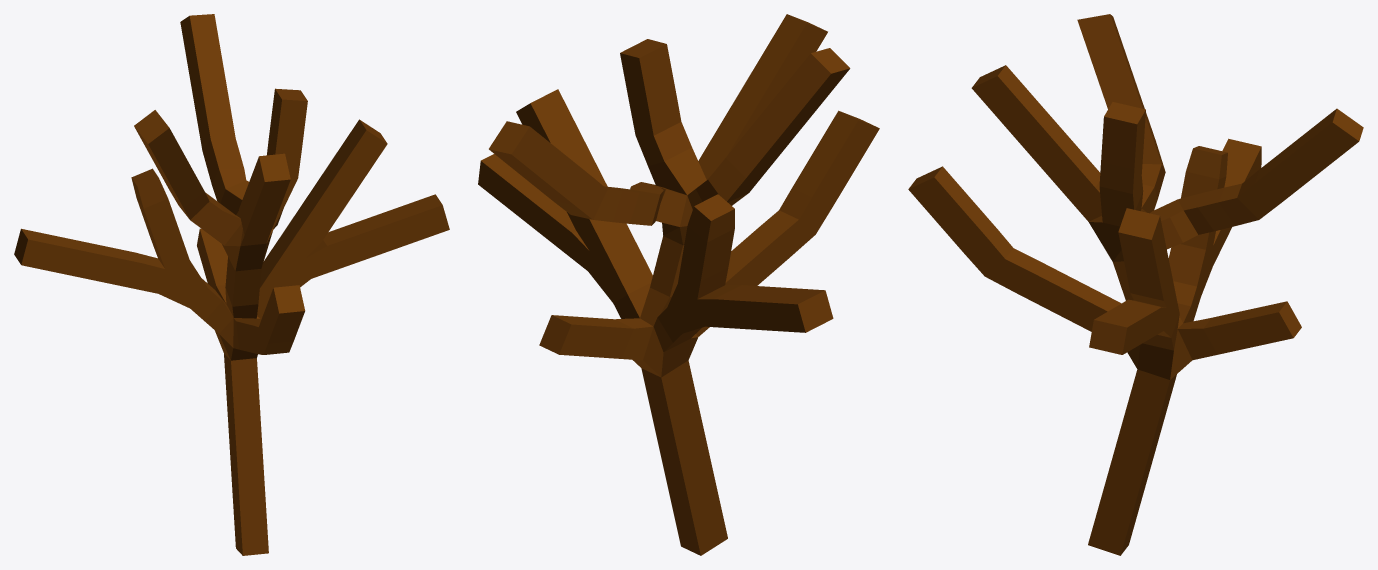
File: TreeBase.fbx
3 renders of one model, left to right at view 1: azimuth 30°, elevation 25°; view 2: azimuth 150°, elevation 25°; view 3: azimuth 270°, elevation 25°, orthographic. The views are drawn at different scales.
Parts seen in each view (by area): view 1: TreeBase; view 2: TreeBase; view 3: TreeBase.
Part boxes in pixels (x1,y1,x2,y2): TreeBase: (14,14,449,555); TreeBase: (478,14,879,555); TreeBase: (908,14,1363,555).
Size of the model in its own units: 4990 by 6013 by 5112.
